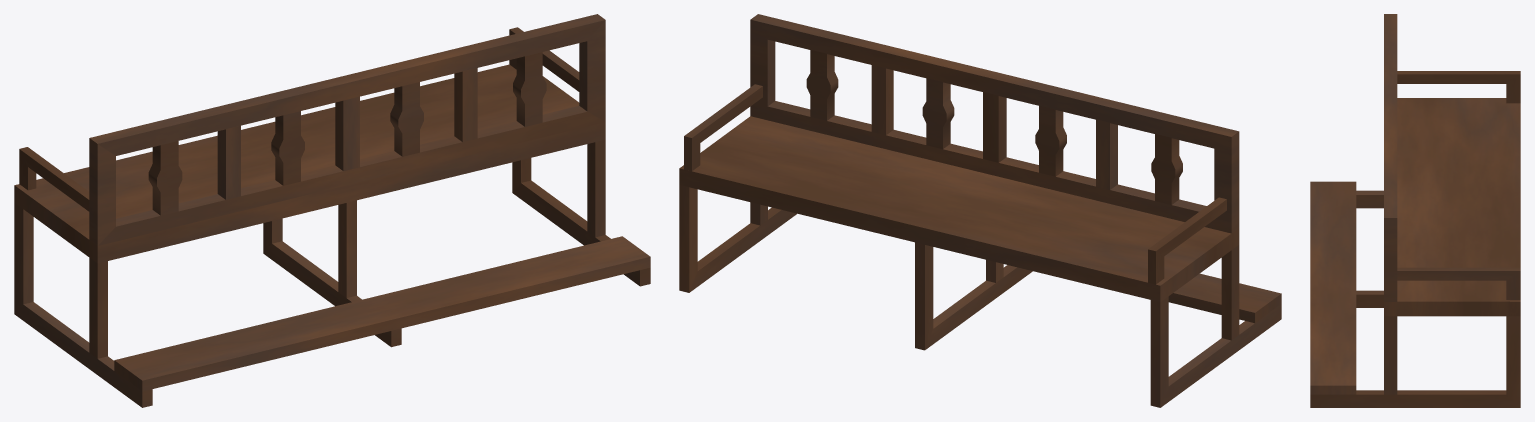
Rendered from Silla Secundaria.fbx.
3 renders of one model, left to right at view 1: azimuth 30°, elevation 25°; view 2: azimuth 150°, elevation 25°; view 3: azimuth 270°, elevation 25°, orthographic. The views are drawn at different scales.
Parts seen in each view (by area): view 1: Cube.006, Cube.049, Cube.032, Cube.048, Cube.047, Cube.005, Cube.030; view 2: Cube.006, Cube.049, Cube.047, Cube.048, Cube.030, Cube.032, Cube.005; view 3: Cube.006, Cube.032, Cube.047, Cube.049, Cube.030, Cube.005.
Boxes of the visible parts, bbox=[...] form: Cube.006: bbox=[14, 64, 605, 263]; Cube.049: bbox=[89, 14, 605, 245]; Cube.032: bbox=[114, 236, 650, 391]; Cube.048: bbox=[148, 52, 546, 215]; Cube.047: bbox=[14, 158, 650, 407]; Cube.005: bbox=[89, 139, 605, 358]; Cube.030: bbox=[19, 27, 579, 211]; Cube.006: bbox=[679, 116, 1239, 302]; Cube.049: bbox=[750, 14, 1239, 233]; Cube.047: bbox=[679, 185, 1281, 407]; Cube.048: bbox=[806, 49, 1182, 204]; Cube.030: bbox=[684, 84, 1226, 284]; Cube.032: bbox=[1168, 273, 1281, 323]; Cube.005: bbox=[750, 202, 1239, 340]; Cube.006: bbox=[1384, 98, 1520, 316]; Cube.032: bbox=[1310, 181, 1356, 394]; Cube.047: bbox=[1310, 190, 1520, 407]; Cube.049: bbox=[1384, 14, 1397, 301]; Cube.030: bbox=[1397, 71, 1520, 299]; Cube.005: bbox=[1384, 316, 1397, 394].
Size of the model in its own units: 195 by 84.93 by 85.14.
